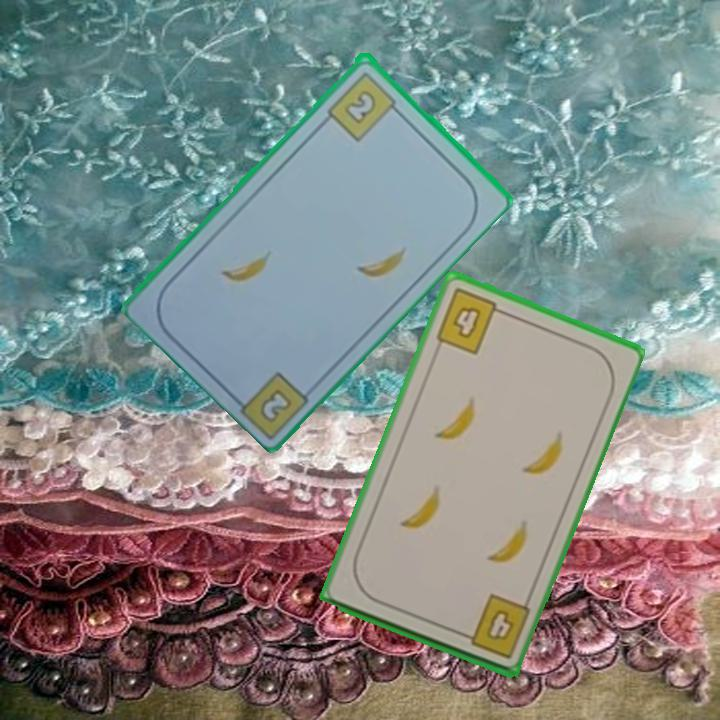2b: (324, 67, 404, 144), (255, 384, 295, 425)
4b: (432, 284, 509, 357), (455, 590, 534, 661)
